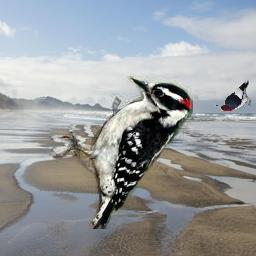Woodpecker: (49, 77, 193, 230), (213, 81, 251, 112)
